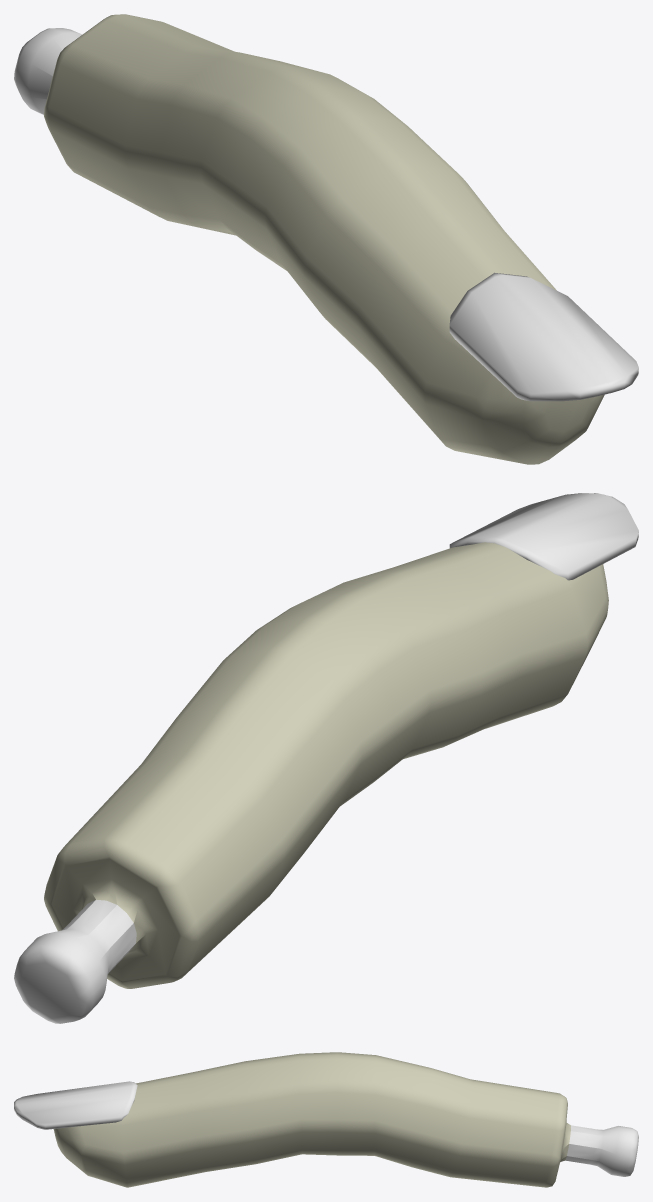
File: KN_Finger.fbx
3 views of the same model, one above another, from view 1: azimuth 30°, elevation 25°; view 2: azimuth 150°, elevation 25°; view 3: azimuth 270°, elevation 25° (orthographic). The views are drawn at different scales.
Visible parts, largest first — view 1: Finger, Fingernail; view 2: Finger, Fingernail; view 3: Finger, Fingernail.
Boxes of the visible parts, x1=… form: Finger: x1=14, y1=14, x2=604, y2=464; Fingernail: x1=449, y1=272, x2=638, y2=401; Finger: x1=14, y1=542, x2=608, y2=1023; Fingernail: x1=449, y1=493, x2=638, y2=580; Finger: x1=53, y1=1052, x2=638, y2=1187; Fingernail: x1=14, y1=1081, x2=137, y2=1129.
Size of the model in its own units: 8.92 by 11.04 by 48.23.
